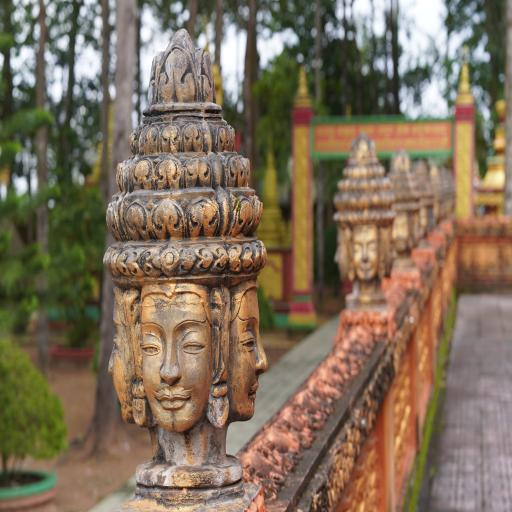than: (88, 24, 288, 504), (329, 126, 399, 315), (135, 280, 215, 434), (222, 280, 268, 428), (103, 284, 144, 424), (385, 146, 419, 256), (412, 156, 436, 244), (350, 224, 378, 285), (378, 221, 397, 283), (332, 220, 350, 283)
